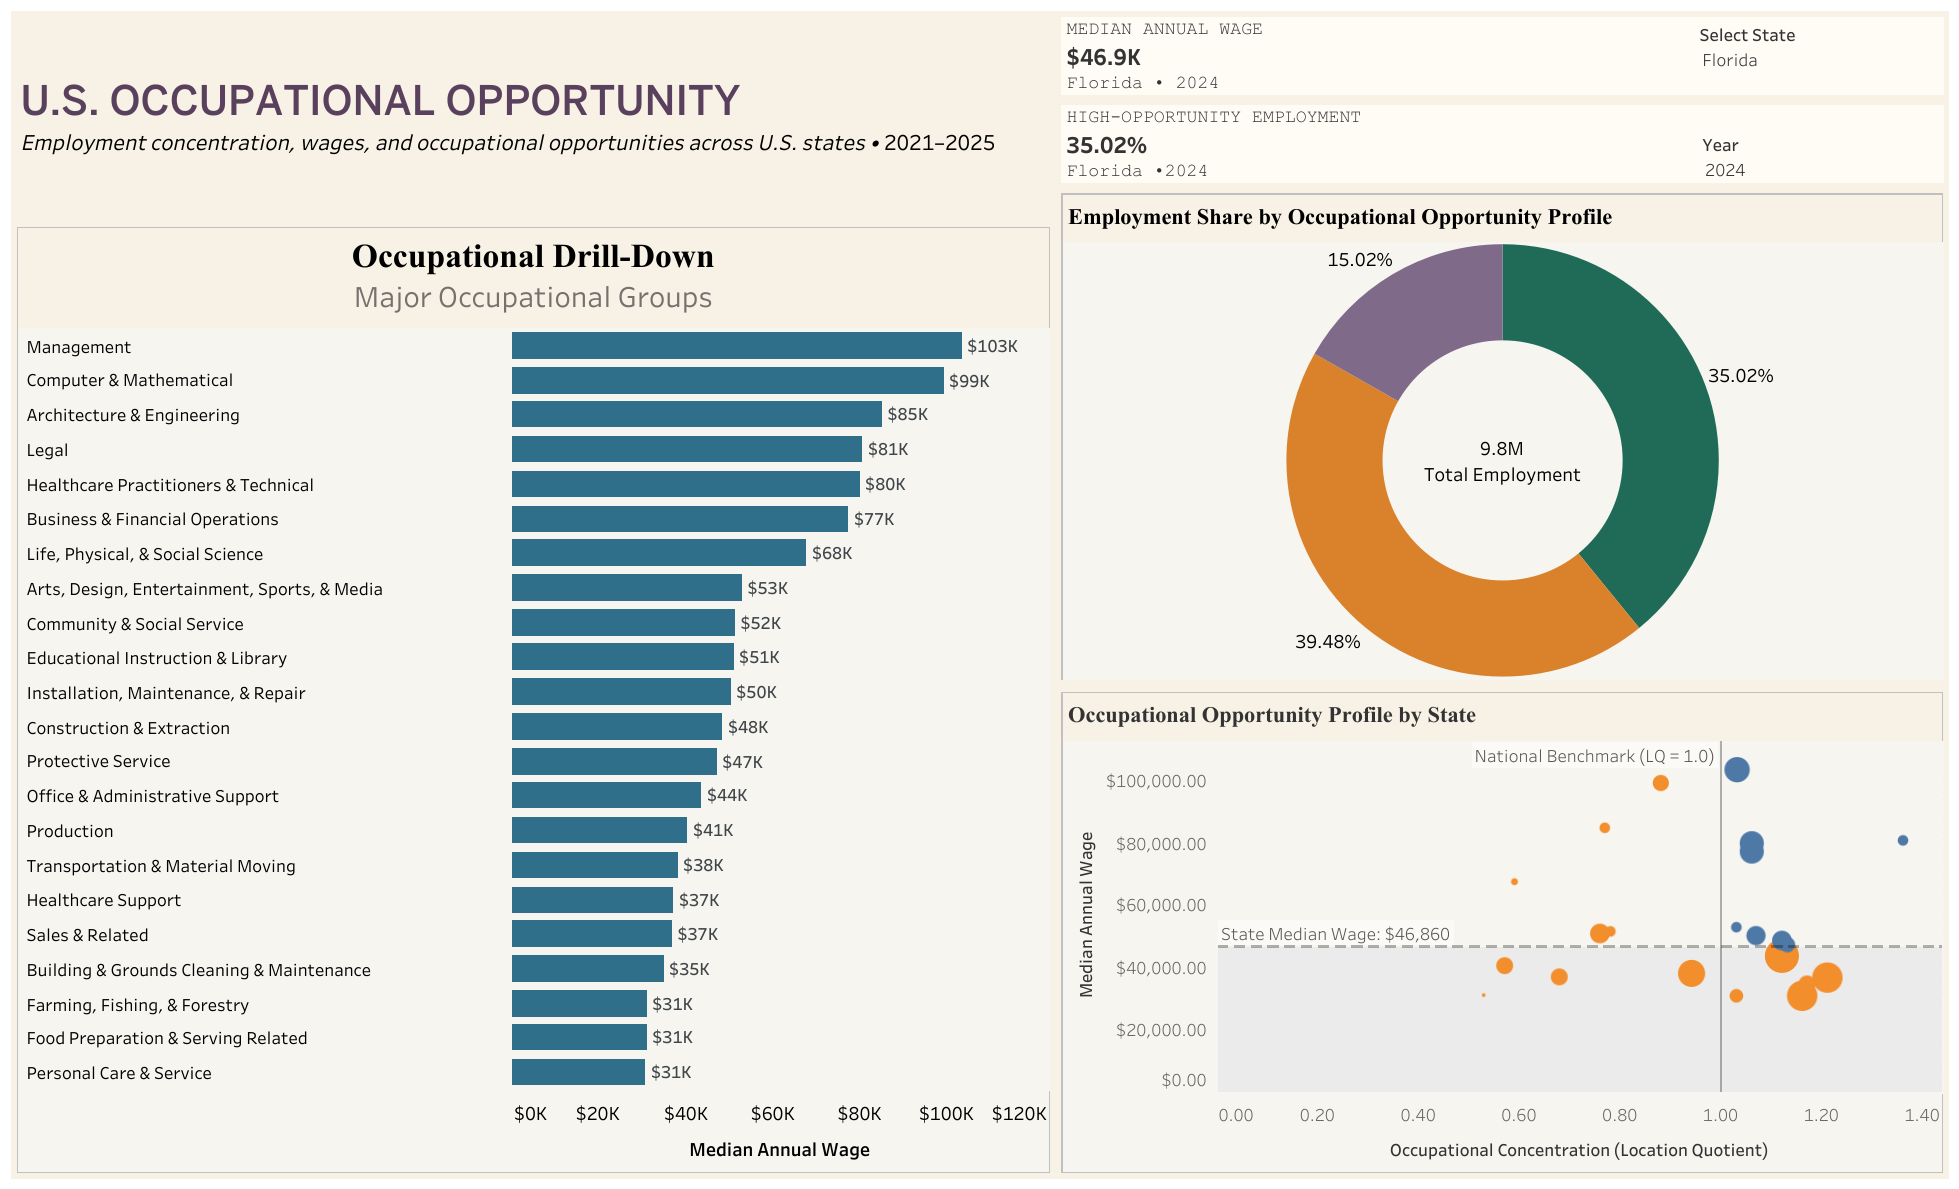

What the dashboard file says about the page in this screenshot:
{"tool":"tableau","page":{"name":"U.S. OCCUPATIONAL OPPORTUNITY Dashboard","canvas":[1400,850],"ordinal":1},"visuals":[{"type":"text","box":[8,8,746,150]},{"type":"worksheet","title":"KPI - Median Annual Wage","mark":"Automatic","box":[754,8,638,75]},{"type":"filter","title":"Occupational Opportunity Composition","param":"[federated.0ztytav1tq7f1b15wf8391z11mg6].[none:state (oews_state_occupation_2021","box":[1214,14,168,61]},{"type":"worksheet","title":"KPI - High Opportunity Employment Share","mark":"Automatic","box":[754,83,638,75]},{"type":"filter","title":"Occupational Opportunity Profile by State","param":"[federated.0ztytav1tq7f1b15wf8391z11mg6].[none:year (oews_state_occupation_2021_","box":[1216,93,160,53]},{"type":"worksheet","title":"Occupational Drill-Down","mark":"Automatic","rows":["Calculation_0435185082765344"],"cols":["median_annual_wage"],"box":[8,158,746,684]},{"type":"worksheet","title":"Occupational Opportunity Composition","mark":"Pie","cols":["Calculation_0435185111318572","Calculation_0435185111318572"],"box":[754,158,638,356]},{"type":"worksheet","title":"Occupational Opportunity Profile by State","mark":"Circle","rows":["median_annual_wage"],"cols":["location_quotient"],"box":[754,514,638,328]}]}

Visuals, with their boxes in screenshot pixels (x1, y1, x2, y2), scaled from the page's 1400x850 canvas onto the 1959x1189 screenshot:
text: Rect(11, 11, 1055, 221)
"KPI - Median Annual Wage" worksheet: Rect(1055, 11, 1948, 116)
"Occupational Opportunity Composition" filter: Rect(1699, 20, 1934, 105)
"KPI - High Opportunity Employment Share" worksheet: Rect(1055, 116, 1948, 221)
"Occupational Opportunity Profile by State" filter: Rect(1702, 130, 1925, 204)
"Occupational Drill-Down" worksheet: Rect(11, 221, 1055, 1178)
"Occupational Opportunity Composition" worksheet (Pie marks): Rect(1055, 221, 1948, 719)
"Occupational Opportunity Profile by State" worksheet (Circle marks): Rect(1055, 719, 1948, 1178)
